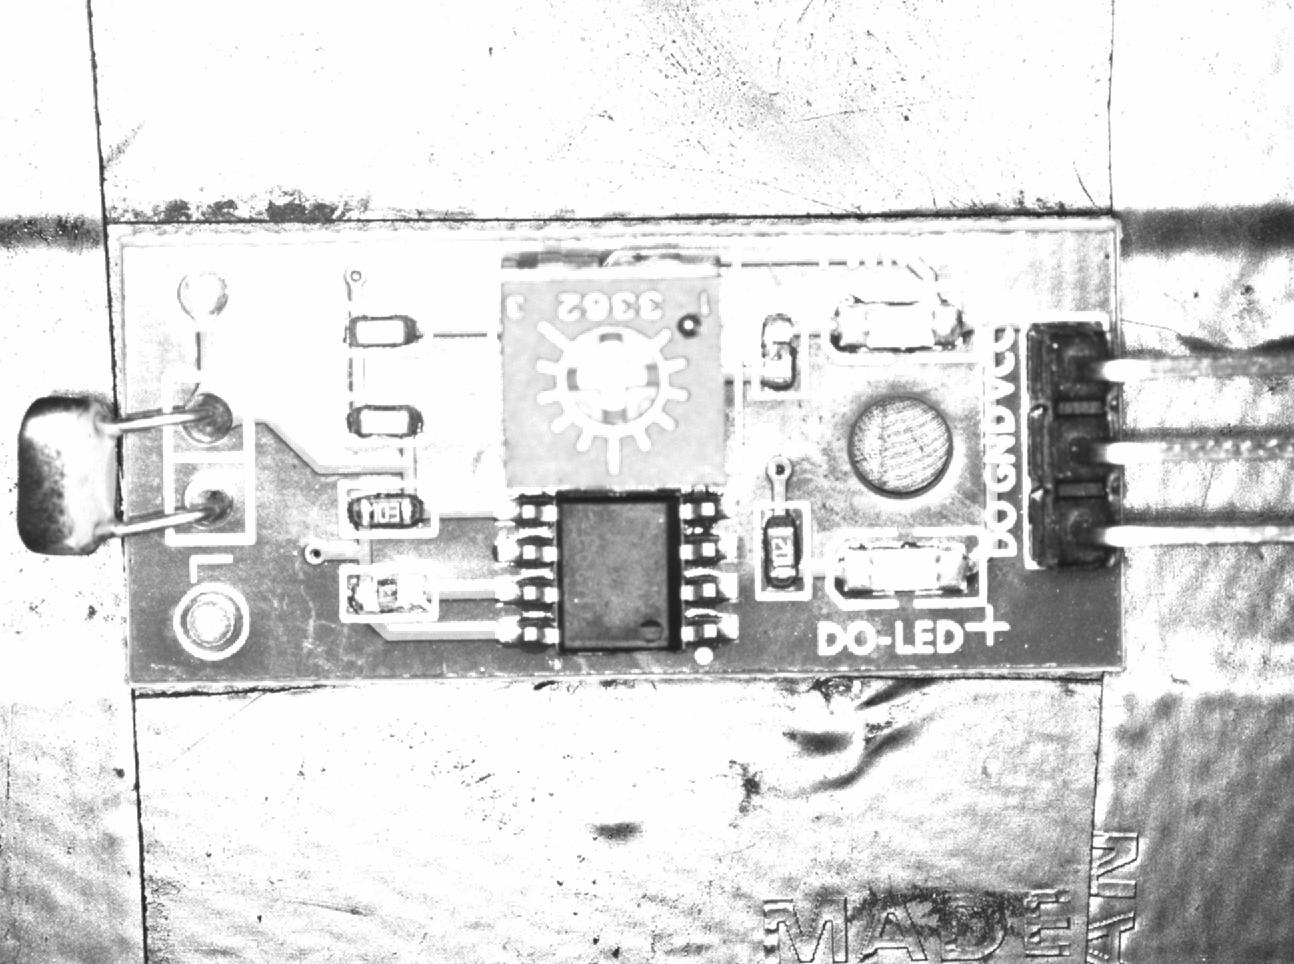miss: (741, 300, 806, 398), (341, 564, 440, 628)
ok: (754, 500, 809, 604), (335, 393, 433, 449), (340, 484, 436, 540), (339, 305, 429, 355)
